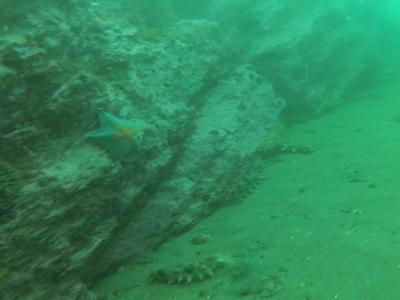holothurian: (145, 256, 237, 287), (226, 169, 269, 201), (270, 136, 318, 157)
